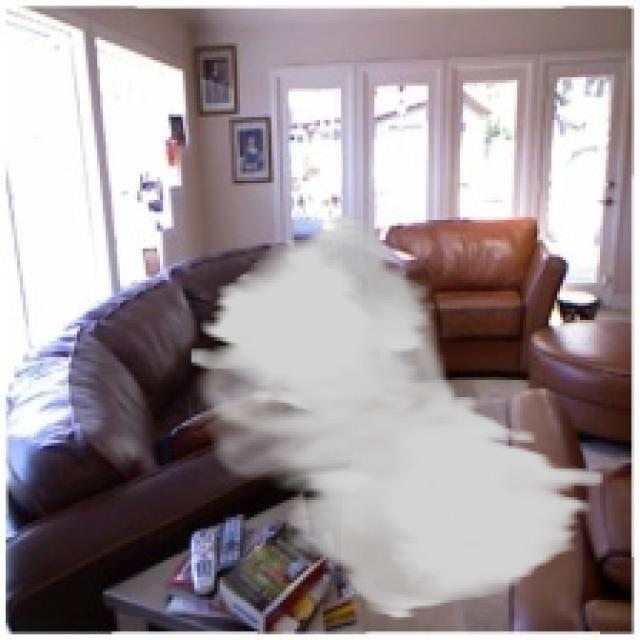Smoke: (188, 211, 603, 620)
